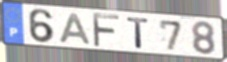6: (27, 8, 56, 45)
7: (158, 19, 184, 51)
8: (190, 20, 217, 56)
A: (58, 12, 93, 46)
F: (91, 12, 122, 49)
T: (126, 16, 151, 50)
